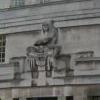Statue: (21, 14, 68, 69)
